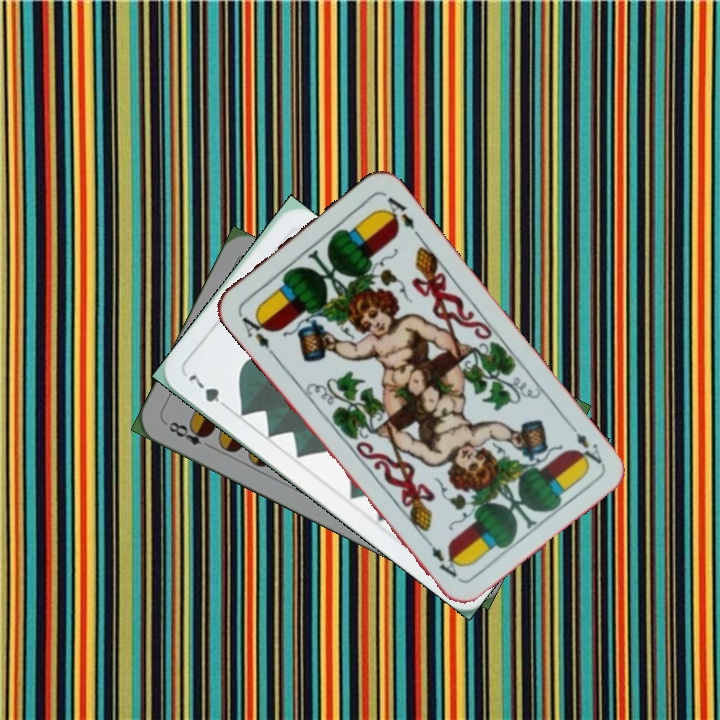E8: (161, 417, 215, 452)
EA: (234, 308, 278, 358), (563, 418, 605, 470)
G7: (184, 370, 233, 413)
